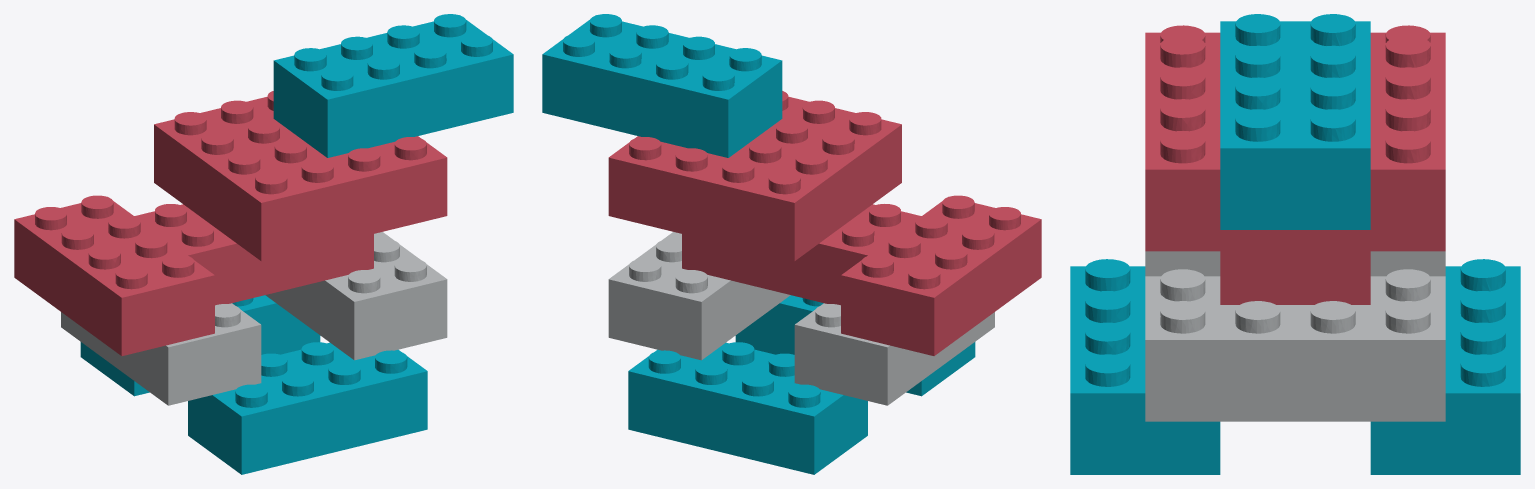
File: Ontwerp-A.glb
The picture shows the model from 3 angles, left to right: view 1: azimuth 30°, elevation 25°; view 2: azimuth 150°, elevation 25°; view 3: azimuth 270°, elevation 25°; orthographic projection. The views are drawn at different scales.
Parts seen in each view (by area): view 1: Mesh_Mesh_head_geo.001_lambert2SG.001; view 2: Mesh_Mesh_head_geo.001_lambert2SG.001; view 3: Mesh_Mesh_head_geo.001_lambert2SG.001.
Boxes of the visible parts, <box> form: Mesh_Mesh_head_geo.001_lambert2SG.001: <box>14,14,513,474</box>; Mesh_Mesh_head_geo.001_lambert2SG.001: <box>542,14,1041,474</box>; Mesh_Mesh_head_geo.001_lambert2SG.001: <box>1070,14,1520,474</box>.
Bounding box in the file's own units: 0.072 × 0.0512 × 0.048.
